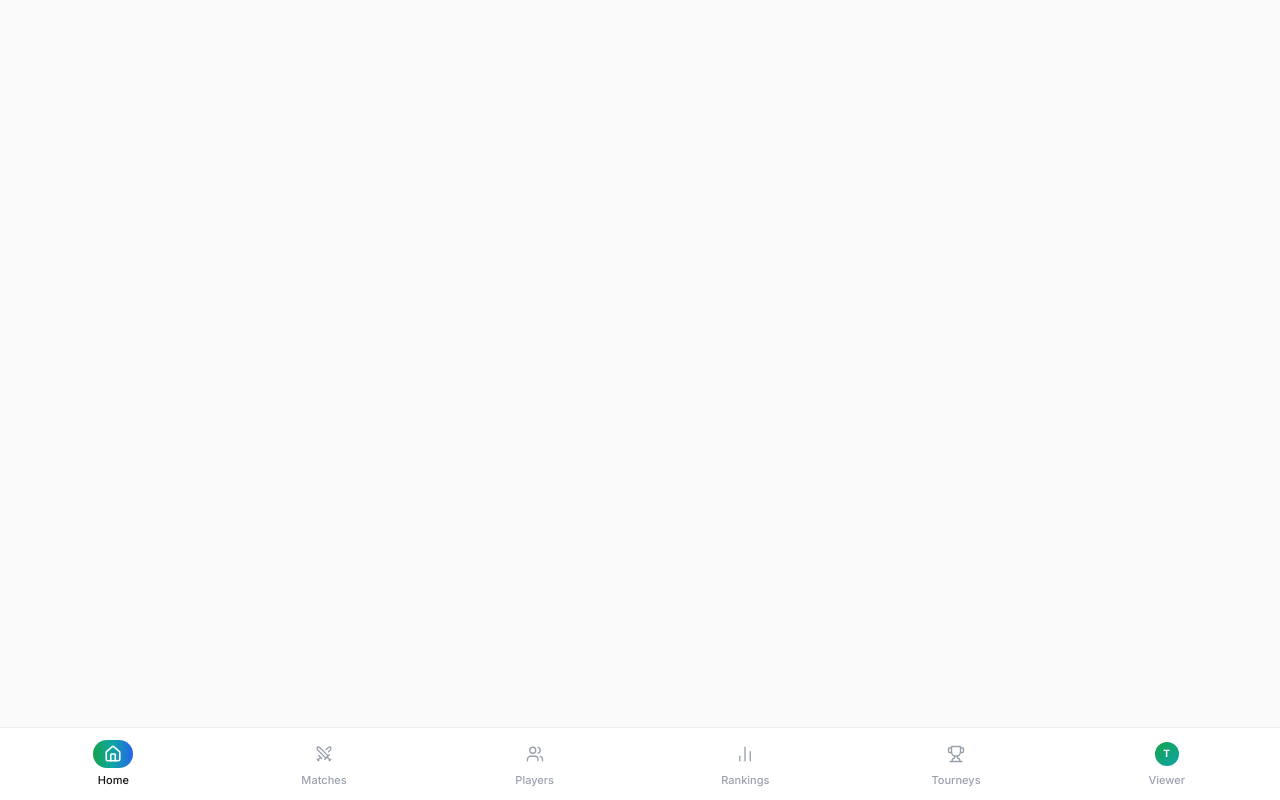
BottomNav › shows appearance theme buttons in admin sheet
Open the account sheet
What coordinates should you click on to do the following:
click the button "T Viewer"
I would click on:
 (1167, 764)
Its box is top-left (1061, 734), bottom-right (1272, 794).
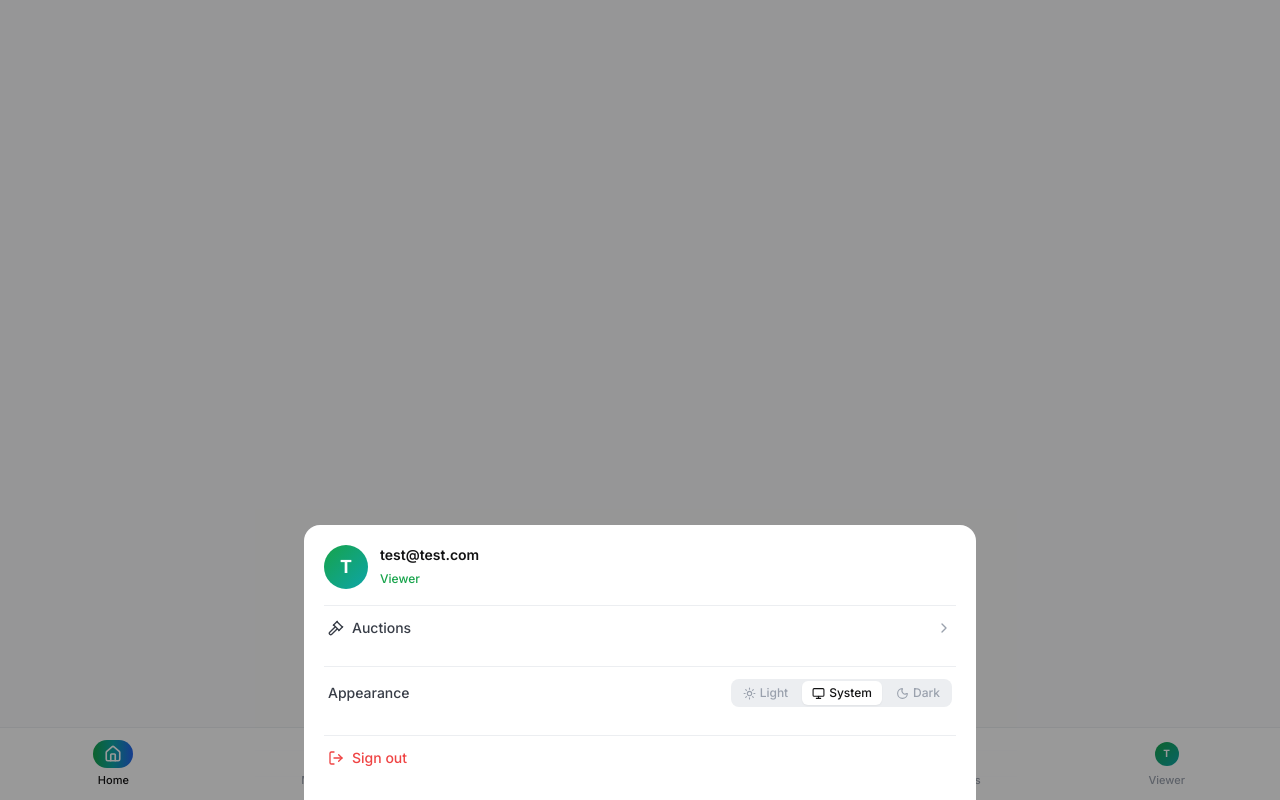
Check: the text "Appearance" is shown, box top-left (328, 683), bottom-right (410, 703)
Check: the button "Light" is shown, box top-left (733, 681), bottom-right (798, 705)
Check: the button "Dark" is shown, box top-left (886, 681), bottom-right (950, 705)
